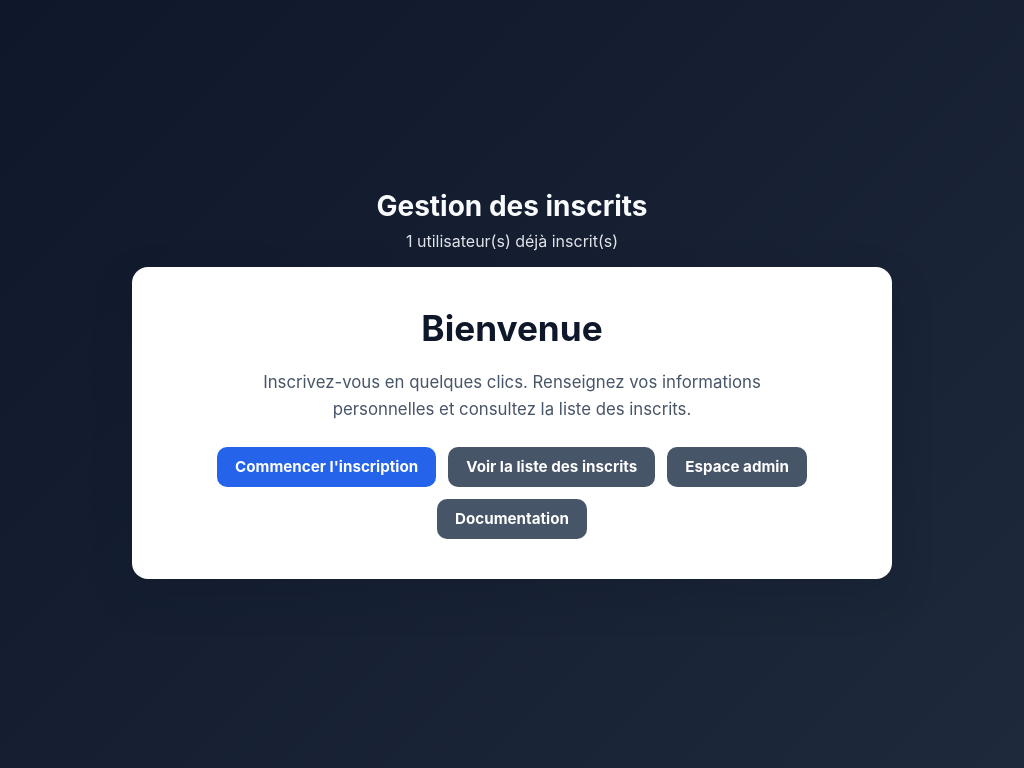
Scenario: Liste des inscrits › n affiche pas l email dans la liste publique
This screenshot has width=1024, height=768.
Click the link with test id "go-to-list" at (552, 467), box x1=448 y1=447 x2=655 y2=487
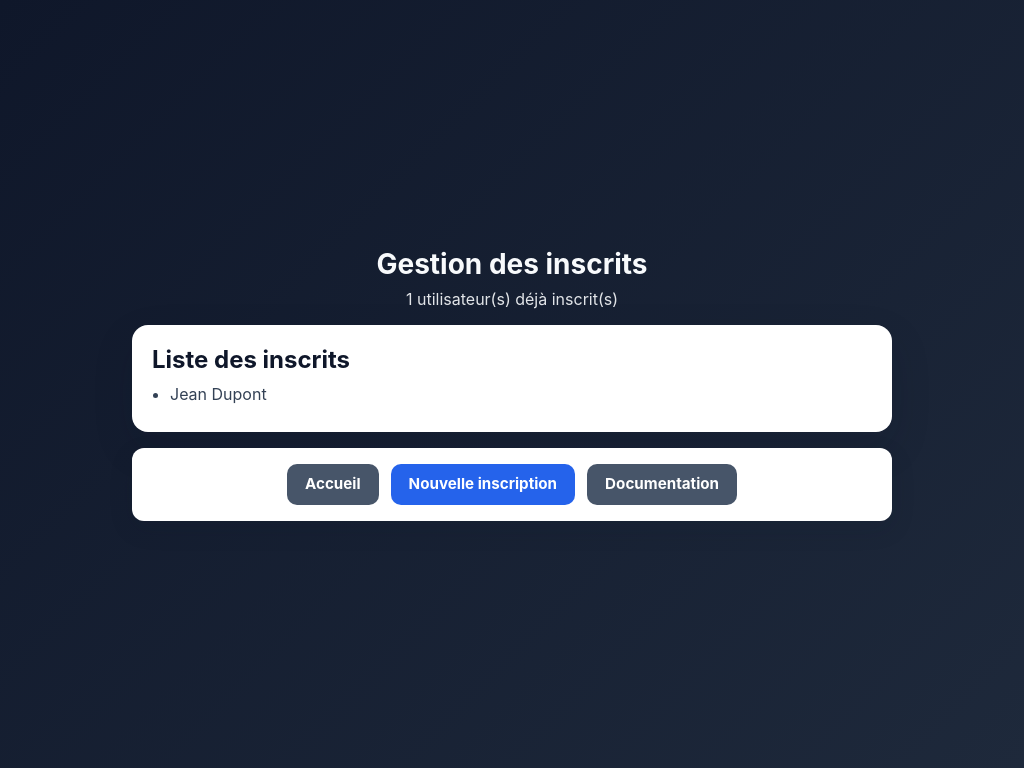
expect the element with test id "list-page" is shown: met, box x1=132 y1=325 x2=892 y2=520
